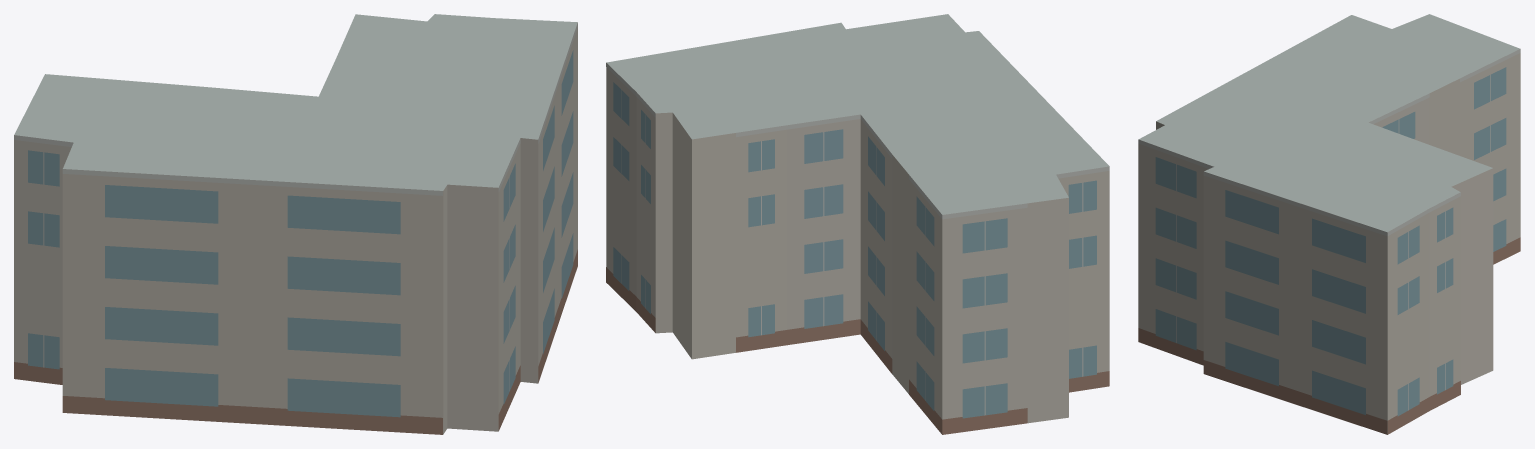
File: survey-upis-32892327.glb
The picture shows the model from 3 angles, left to right: view 1: azimuth 30°, elevation 25°; view 2: azimuth 150°, elevation 25°; view 3: azimuth 270°, elevation 25°; orthographic projection. The views are drawn at different scales.
Parts seen in each view (by area): view 1: survey-upis-32892327.tmp; view 2: survey-upis-32892327.tmp; view 3: survey-upis-32892327.tmp.
Boxes of the visible parts, x1,y1,x2,y2 form: survey-upis-32892327.tmp: (14,14,577,434); survey-upis-32892327.tmp: (606,14,1109,434); survey-upis-32892327.tmp: (1138,14,1520,434).
Bounding box in the file's own units: 28.2 × 12.2 × 20.86.
